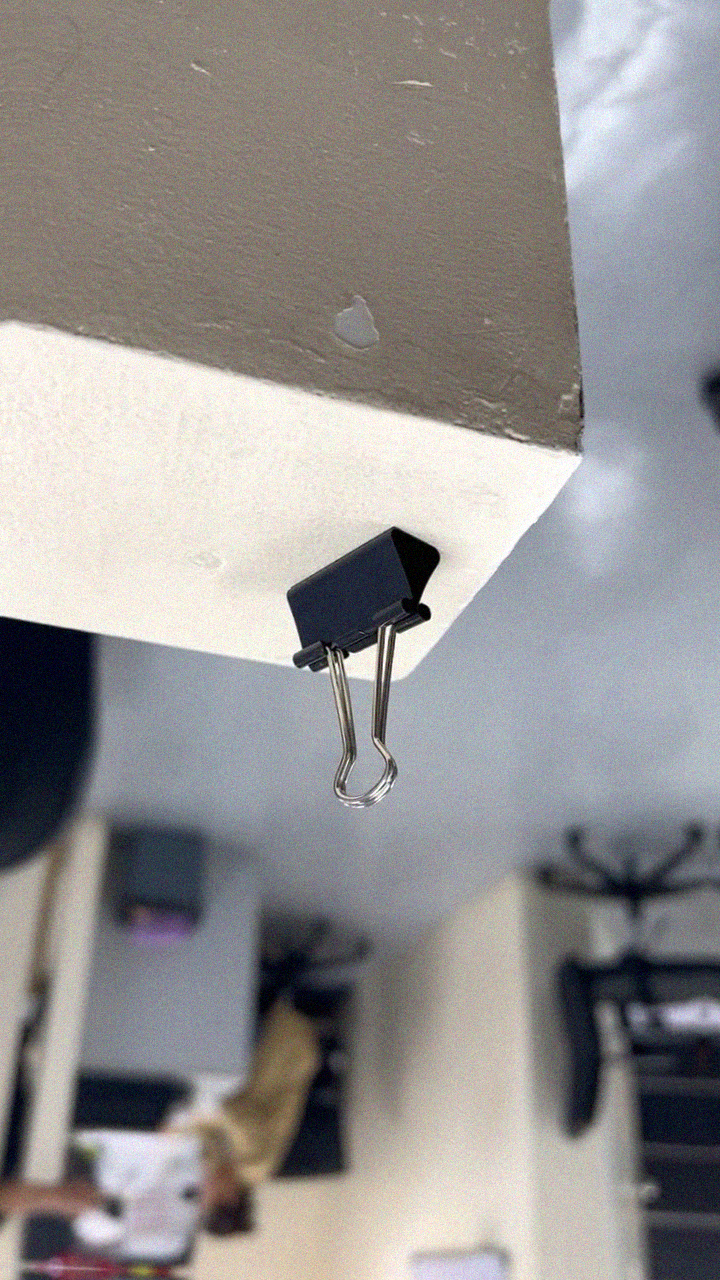kep_giay: (266, 517, 449, 813)
